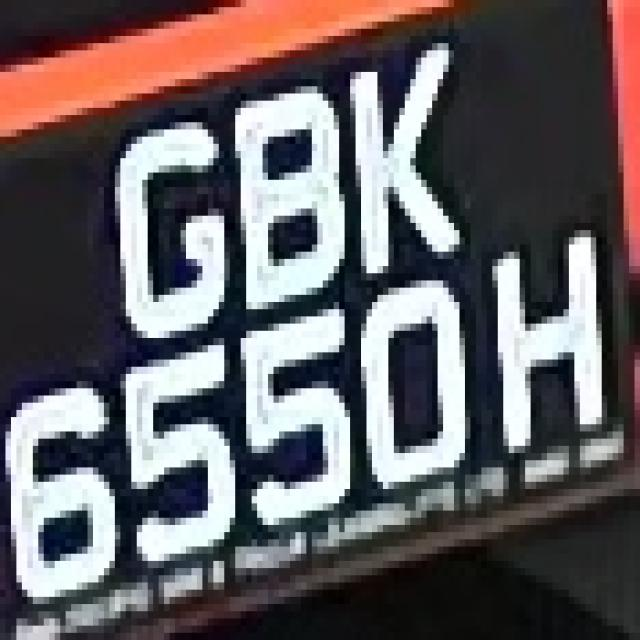0: (345, 273, 476, 496)
5: (109, 331, 257, 568), (218, 288, 356, 525)
6: (11, 367, 126, 618)
B: (224, 100, 356, 324)
G: (99, 100, 246, 330)
H: (487, 223, 612, 475)
K: (334, 36, 459, 288)
